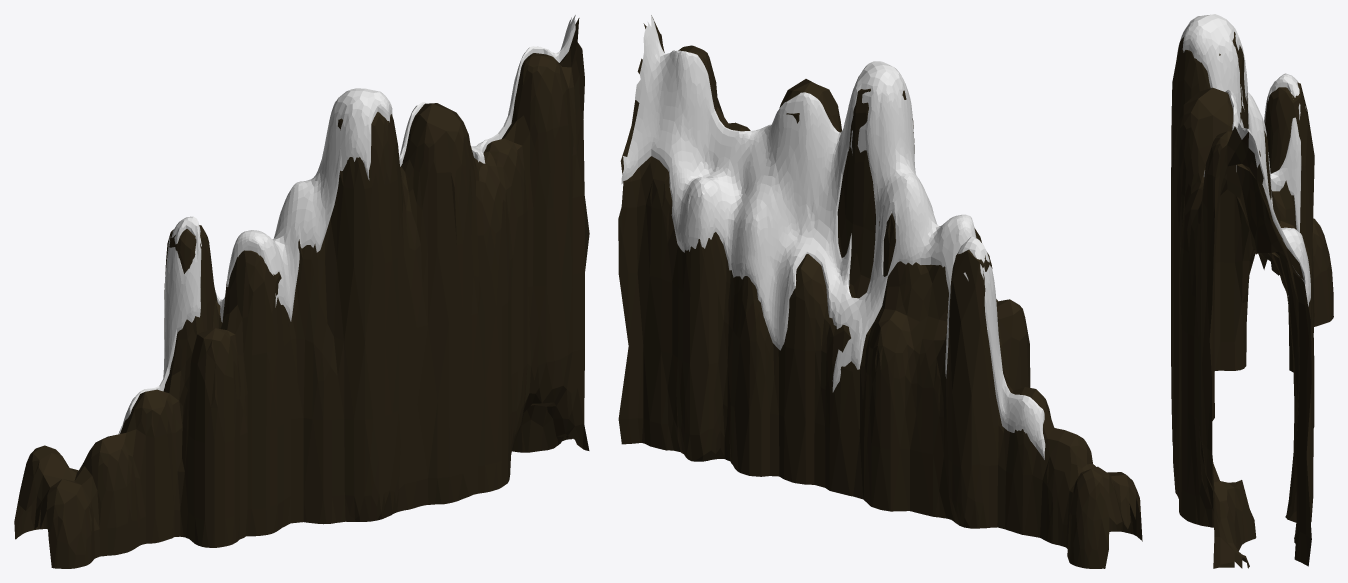
File: Mtn_Wall_N2_M.fbx
The picture shows the model from 3 angles, left to right: view 1: azimuth 30°, elevation 25°; view 2: azimuth 150°, elevation 25°; view 3: azimuth 270°, elevation 25°; orthographic projection. The views are drawn at different scales.
Parts seen in each view (by area): view 1: Mtn_Wall_N2_M; view 2: Mtn_Wall_N2_M; view 3: Mtn_Wall_N2_M.
Boxes of the visible parts, x1=… form: Mtn_Wall_N2_M: x1=14, y1=15, x2=589, y2=568; Mtn_Wall_N2_M: x1=618, y1=15, x2=1142, y2=568; Mtn_Wall_N2_M: x1=1171, y1=14, x2=1333, y2=568.
Size of the model in its own units: 23773 by 18466 by 6110.
